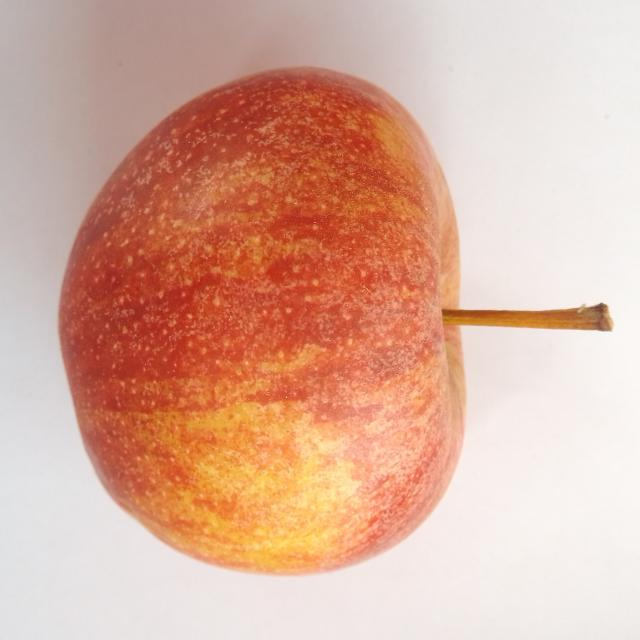apple: (60, 68, 613, 573), (60, 68, 613, 573)
